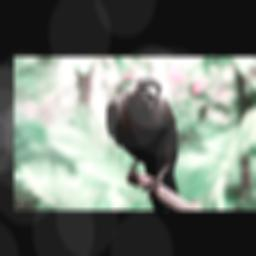Crow: (106, 76, 180, 210)
